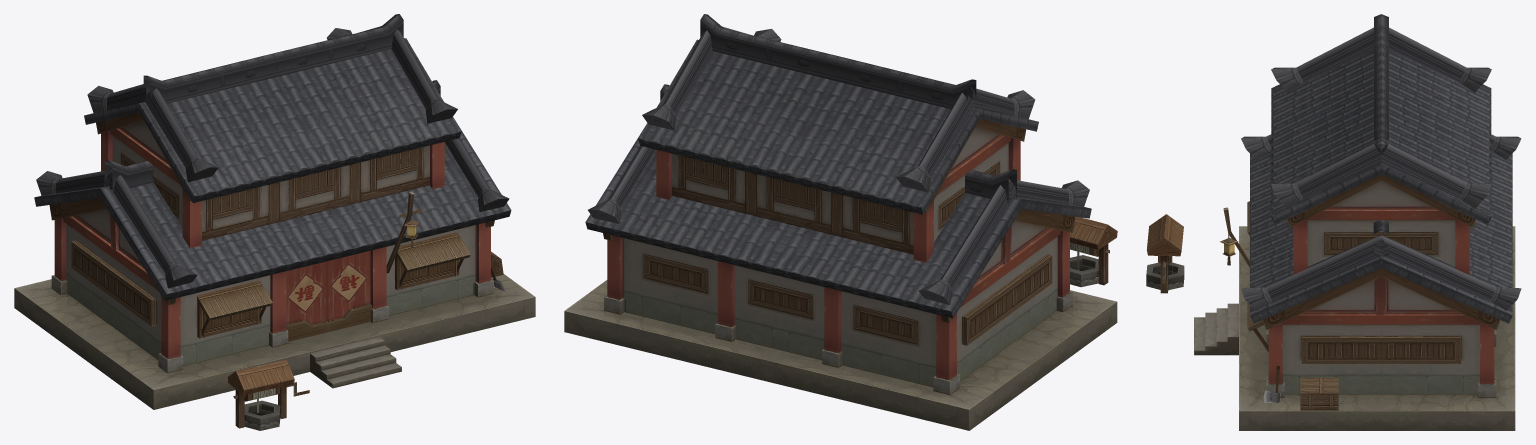
Rendered from City_bujian_23.fbx.
3 views of the same model, side by side, from view 1: azimuth 30°, elevation 25°; view 2: azimuth 150°, elevation 25°; view 3: azimuth 270°, elevation 25° (orthographic). The views are drawn at different scales.
Visible parts, largest first — view 1: City_1_2017_3_7_2:City_1_2017_3_7_2:pasted__Object03_16; view 2: City_1_2017_3_7_2:City_1_2017_3_7_2:pasted__Object03_16; view 3: City_1_2017_3_7_2:City_1_2017_3_7_2:pasted__Object03_16.
Boxes of the visible parts, x1,y1,x2,y2 form: City_1_2017_3_7_2:City_1_2017_3_7_2:pasted__Object03_16: [14, 14, 535, 430]; City_1_2017_3_7_2:City_1_2017_3_7_2:pasted__Object03_16: [564, 14, 1117, 430]; City_1_2017_3_7_2:City_1_2017_3_7_2:pasted__Object03_16: [1146, 14, 1521, 430].
Size of the model in its own units: 13.95 by 9.35 by 11.97.
